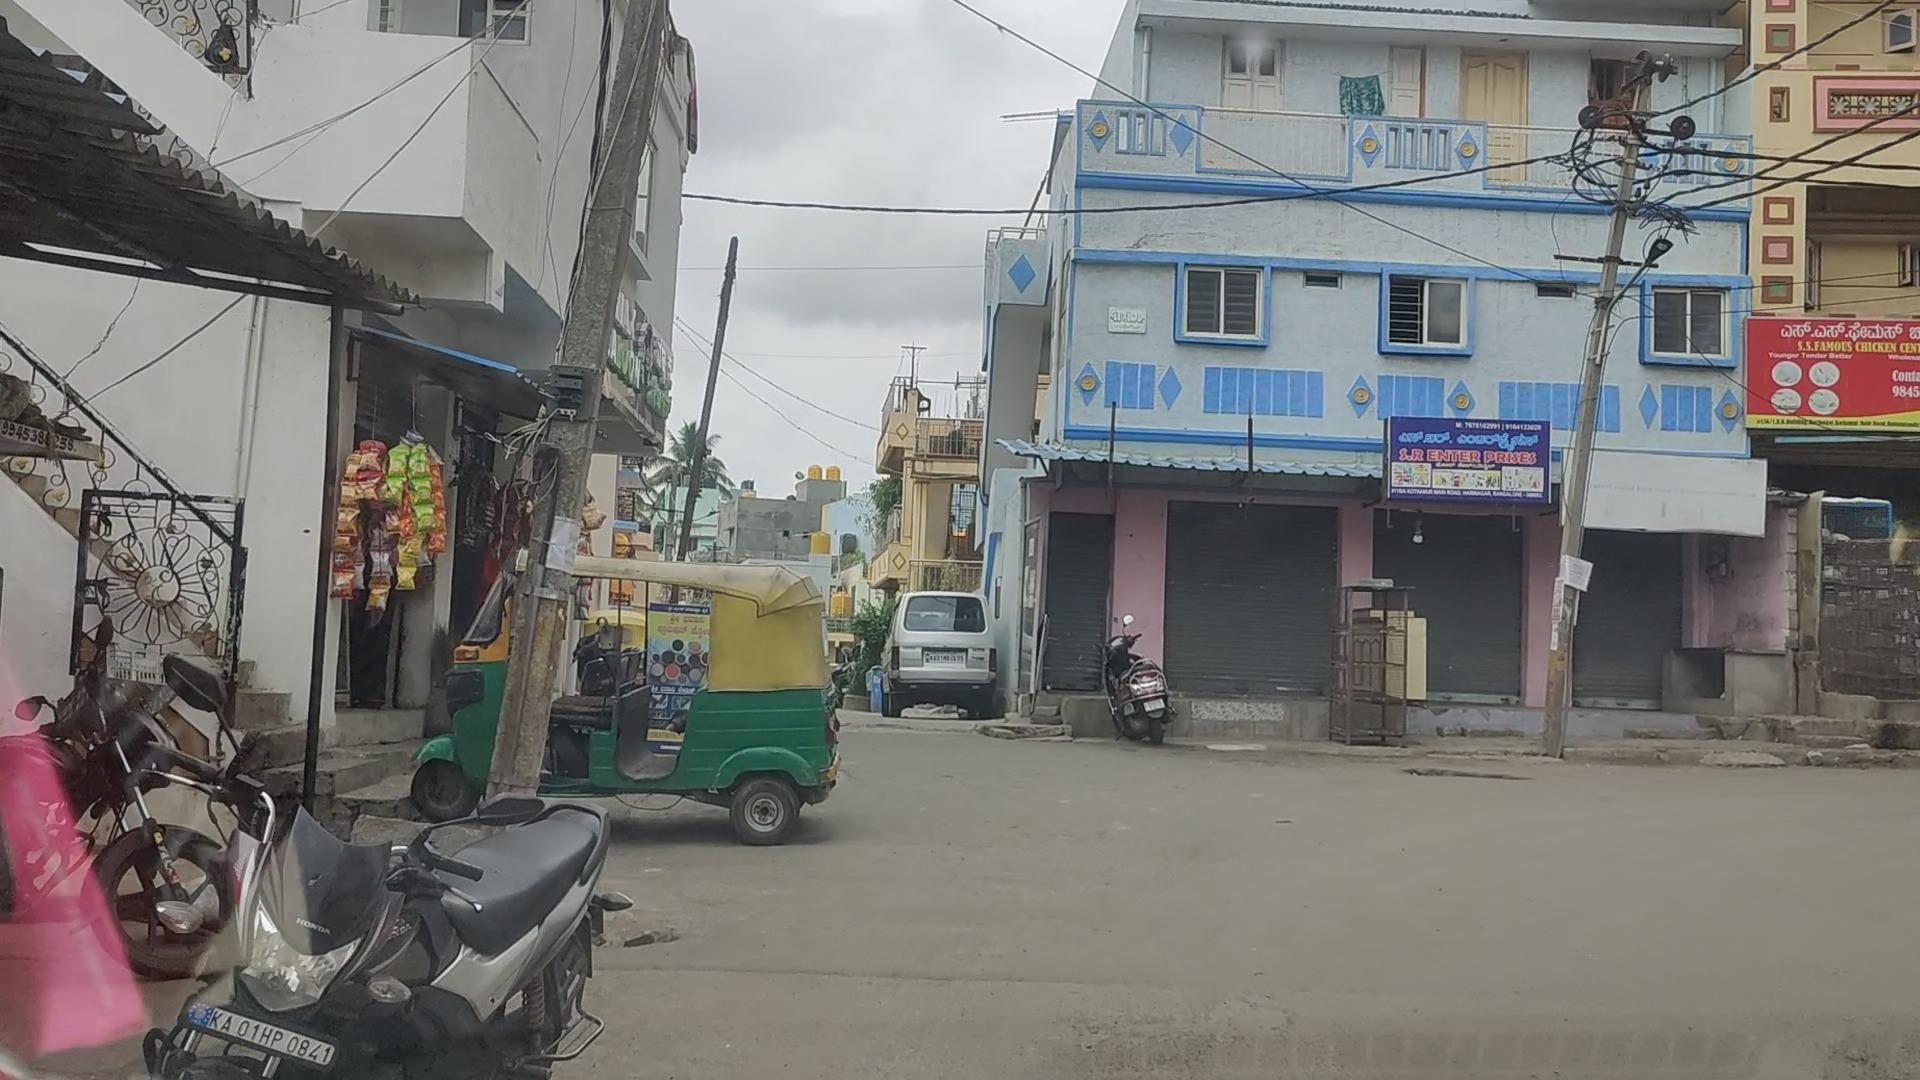RoadDamages: (985, 971, 1345, 1080)
